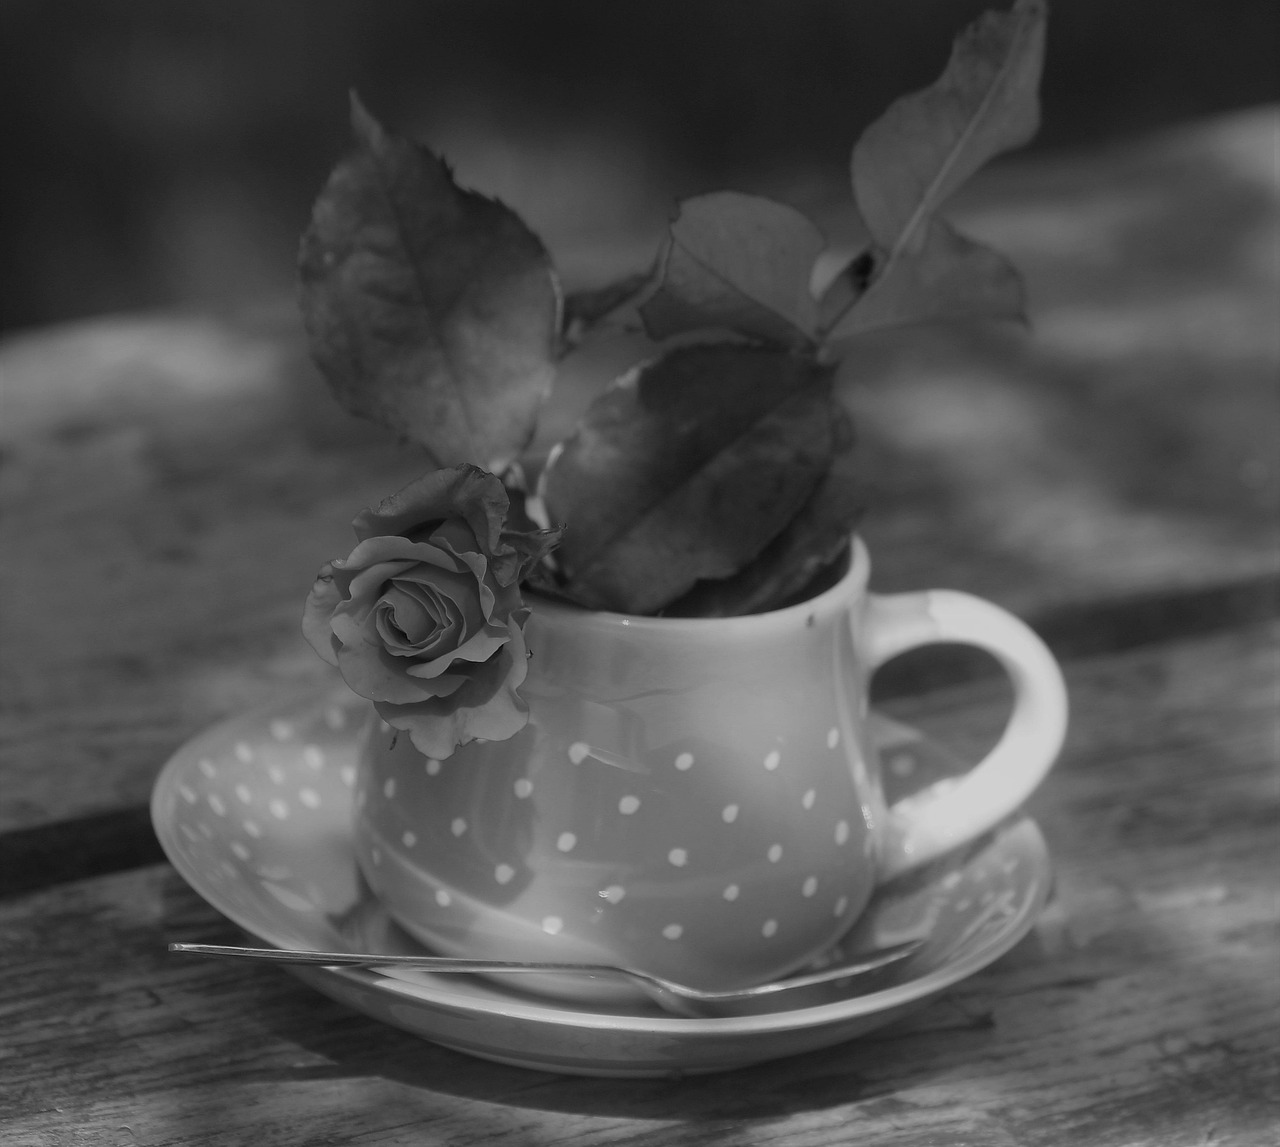mug: (320, 418, 1121, 992)
